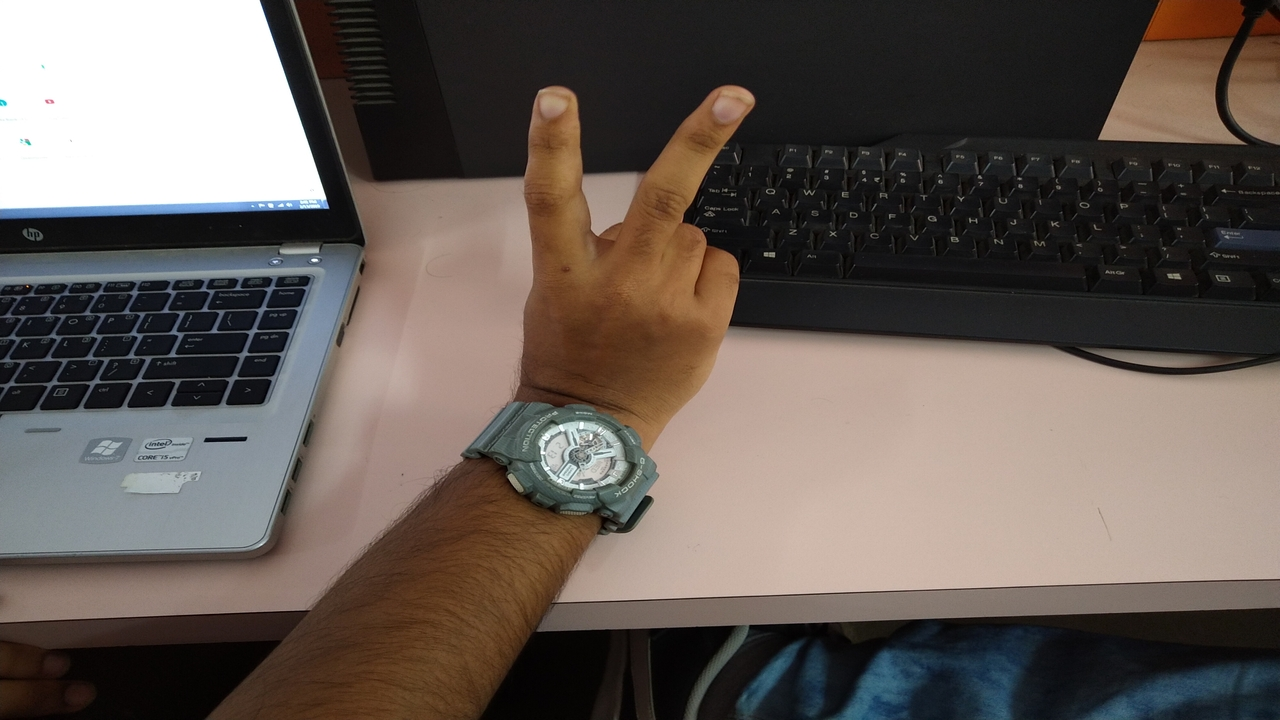fingertip: (698, 78, 758, 128), (526, 82, 584, 132)
